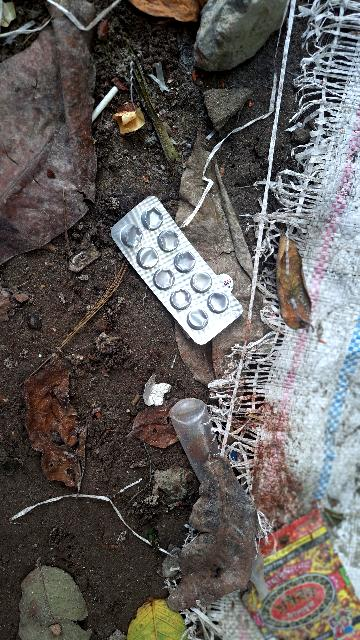medicine: (109, 193, 247, 348)
